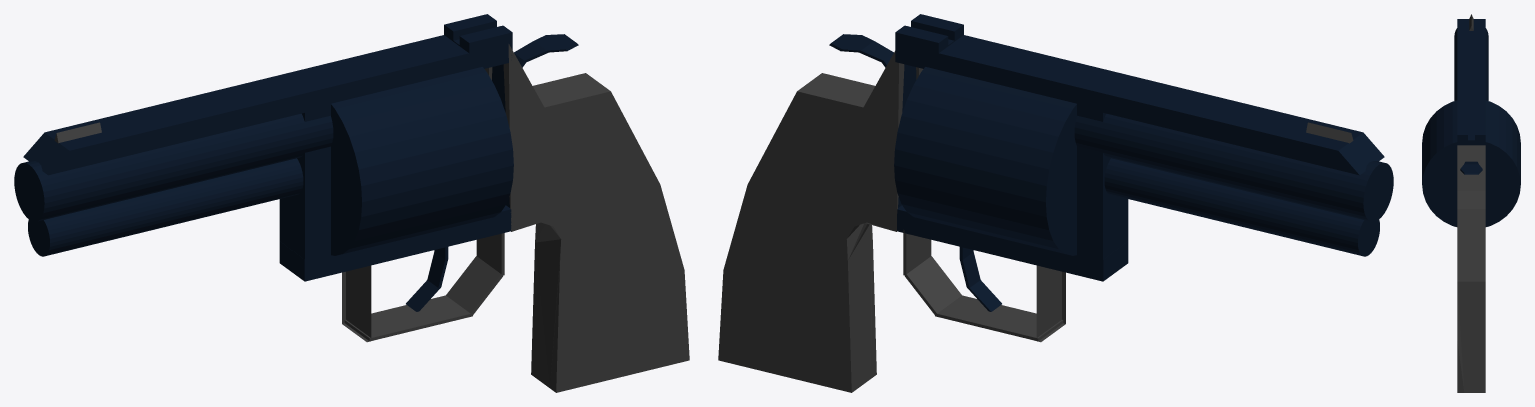
Rendered from revolver0001.obj.
3 views of the same model, side by side, from view 1: azimuth 30°, elevation 25°; view 2: azimuth 150°, elevation 25°; view 3: azimuth 270°, elevation 25° (orthographic). The views are drawn at different scales.
Visible parts, largest first — view 1: Cube, bulletCylinder, upperFrame, barrel, cleaningRod, Cube.001, Cube.002, triggerGuard.002, Cube.003, triggerGuard.001, trigger, trigger2 (+1 smaller); view 2: Cube, bulletCylinder, upperFrame, barrel, cleaningRod, Cube.001, Cube.002, triggerGuard.002, Cube.003, triggerGuard.001, trigger, trigger2 (+1 smaller); view 3: bulletCylinder, Cube, upperFrame, barrel, Cube.003, trigger2.
Boxes of the visible parts, <box> form: Cube: <box>342,44,689,392</box>; bulletCylinder: <box>331,67,513,255</box>; upperFrame: <box>23,35,512,207</box>; barrel: <box>14,113,333,221</box>; cleaningRod: <box>28,158,303,256</box>; Cube.001: <box>279,205,511,281</box>; Cube.002: <box>279,104,330,259</box>; triggerGuard.002: <box>344,295,472,341</box>; Cube.003: <box>444,14,512,54</box>; triggerGuard.001: <box>446,256,502,315</box>; trigger: <box>406,247,448,311</box>; trigger2: <box>514,34,578,67</box>; Cube: <box>718,51,1065,392</box>; bulletCylinder: <box>894,67,1076,255</box>; upperFrame: <box>895,35,1384,207</box>; barrel: <box>1074,113,1393,221</box>; cleaningRod: <box>1104,158,1379,256</box>; Cube.001: <box>897,205,1128,281</box>; Cube.002: <box>1077,102,1128,259</box>; triggerGuard.002: <box>935,295,1063,341</box>; Cube.003: <box>895,14,963,53</box>; triggerGuard.001: <box>905,256,961,315</box>; trigger: <box>959,247,1001,311</box>; trigger2: <box>829,34,893,67</box>; bulletCylinder: <box>1422,100,1520,226</box>; Cube: <box>1457,145,1485,392</box>; upperFrame: <box>1457,19,1485,145</box>; barrel: <box>1454,28,1488,100</box>; Cube.003: <box>1457,123,1485,140</box>; trigger2: <box>1460,161,1482,174</box>.
Size of the model in its own units: 2.98 by 1.63 by 0.6981.
